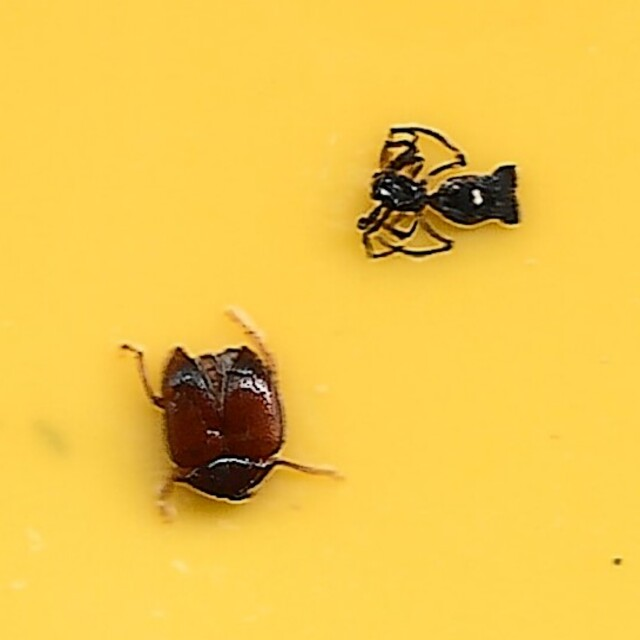Araneae: (355, 124, 523, 267)
Coleoptera: (117, 314, 337, 516)
